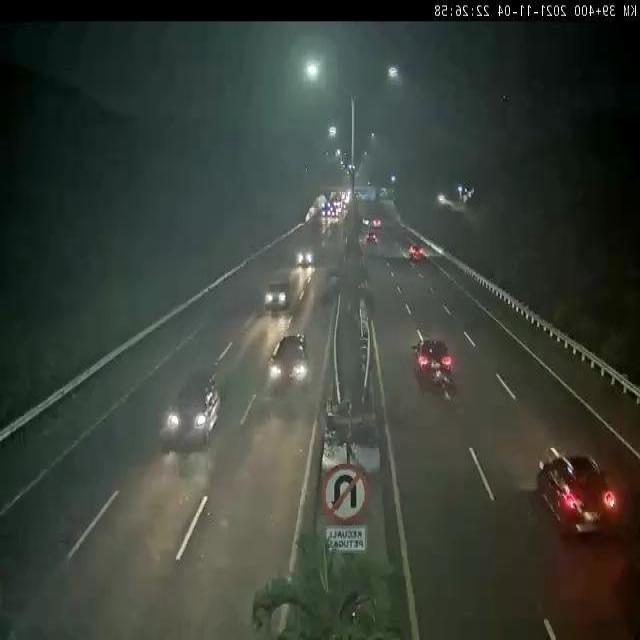Car: (534, 436, 618, 536), (154, 369, 225, 465), (261, 328, 317, 407), (406, 320, 458, 402), (257, 270, 299, 325), (287, 236, 325, 276), (399, 240, 430, 266)
